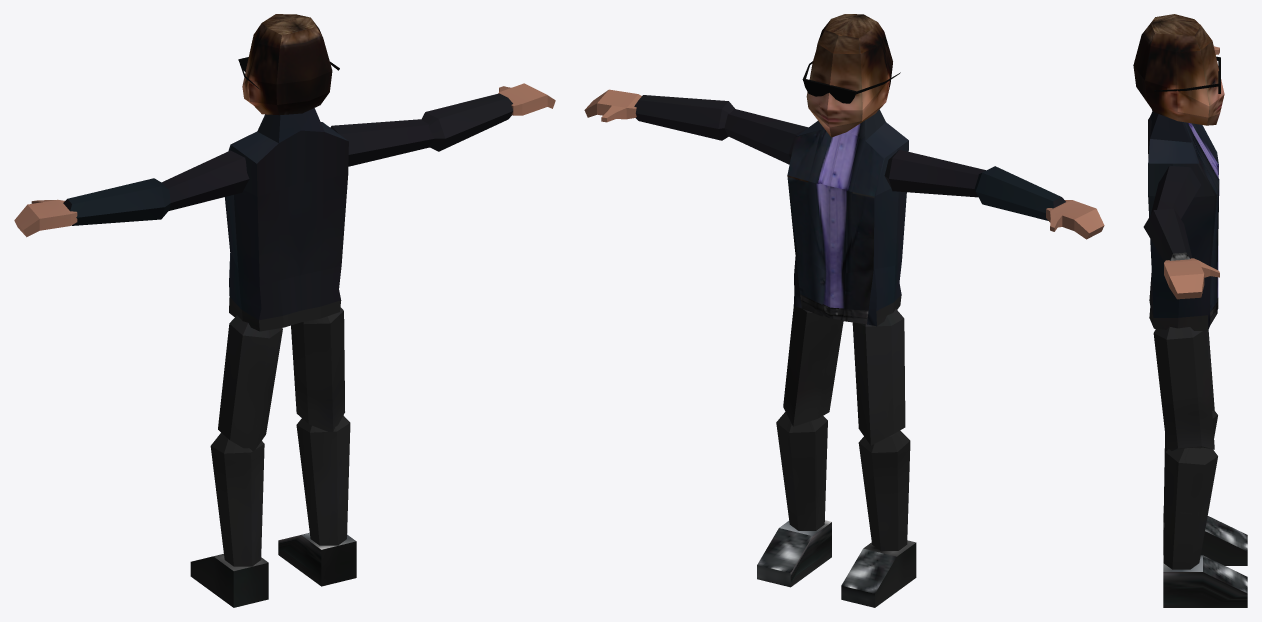
The model's file is romka (1).fbx.
3 views of the same model, side by side, from view 1: azimuth 30°, elevation 25°; view 2: azimuth 150°, elevation 25°; view 3: azimuth 270°, elevation 25° (orthographic). The views are drawn at different scales.
Parts seen in each view (by area): view 1: Cube; view 2: Cube; view 3: Cube.
Part boxes in pixels (box(x1,y1,x2,y2)): Cube: box(14, 14, 555, 607); Cube: box(584, 14, 1104, 607); Cube: box(1133, 14, 1247, 607).
Size of the model in its own units: 1215 by 1244 by 230.
